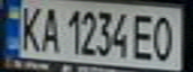1: (60, 6, 81, 55)
2: (78, 7, 100, 56)
3: (96, 8, 115, 57)
4: (112, 9, 133, 60)
A: (36, 2, 60, 53)
E: (130, 10, 160, 62)
K: (15, 2, 45, 53)
O: (148, 11, 181, 63)
